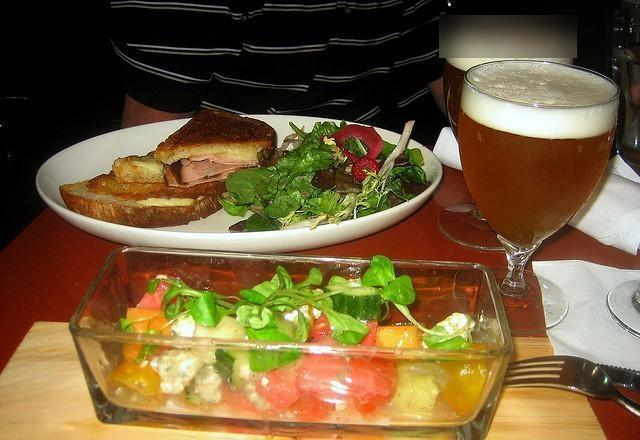glass-wine: (457, 59, 620, 327)
